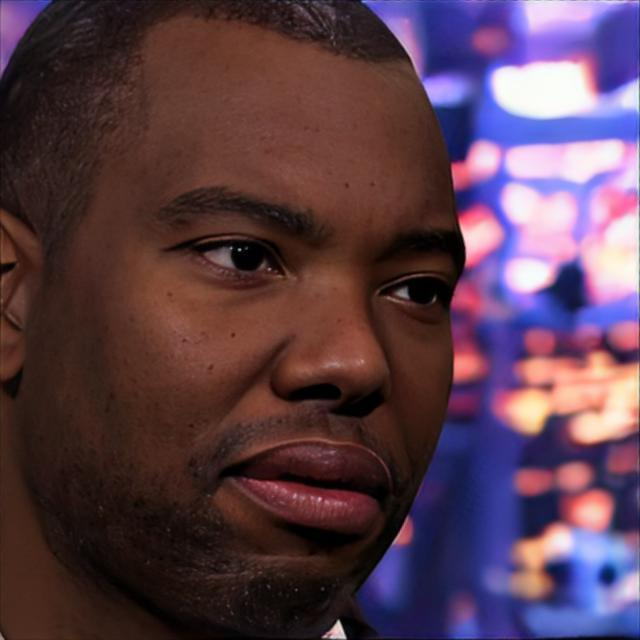neutral: (41, 0, 468, 640)
